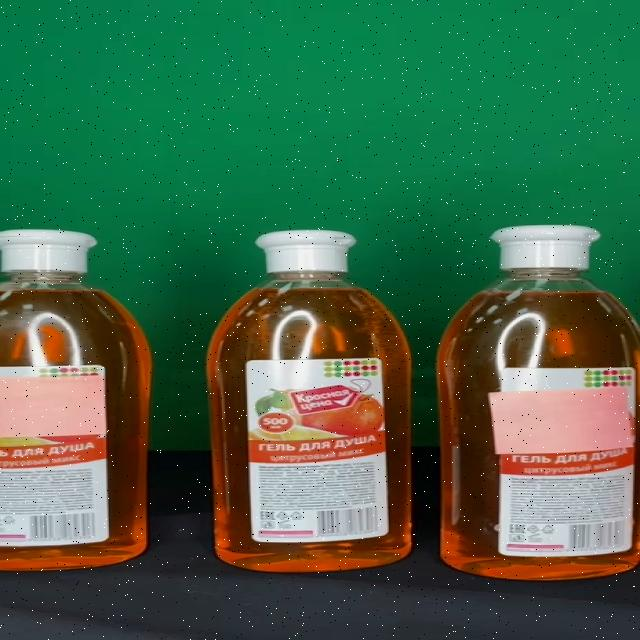Bottle: (440, 224, 640, 580), (210, 229, 413, 572)
Cap: (491, 225, 602, 268), (254, 230, 358, 272)
